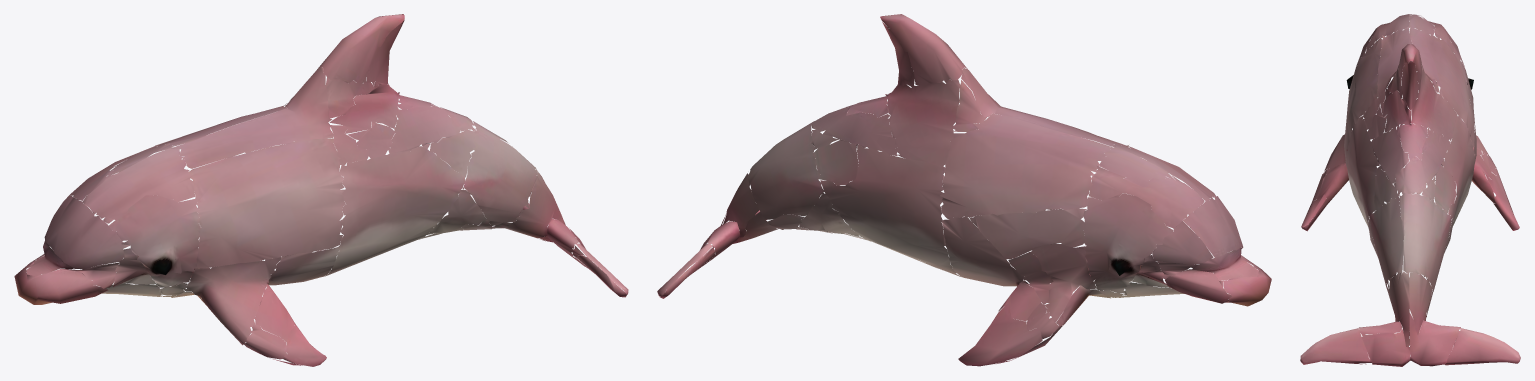
Rendered from boto.glb.
3 renders of one model, left to right at view 1: azimuth 30°, elevation 25°; view 2: azimuth 150°, elevation 25°; view 3: azimuth 270°, elevation 25°, orthographic. The views are drawn at different scales.
Visible parts, largest first — view 1: tripo_node_7af177ce-78cd-421a-bf90-1e3888d29643; view 2: tripo_node_7af177ce-78cd-421a-bf90-1e3888d29643; view 3: tripo_node_7af177ce-78cd-421a-bf90-1e3888d29643.
Boxes of the visible parts, x1=… form: tripo_node_7af177ce-78cd-421a-bf90-1e3888d29643: x1=14, y1=14, x2=628, y2=366; tripo_node_7af177ce-78cd-421a-bf90-1e3888d29643: x1=657, y1=14, x2=1271, y2=366; tripo_node_7af177ce-78cd-421a-bf90-1e3888d29643: x1=1300, y1=14, x2=1520, y2=366.
Size of the model in its own units: 1.45 by 0.7 by 0.5792.
Materials: 1 (1 with a texture image).
